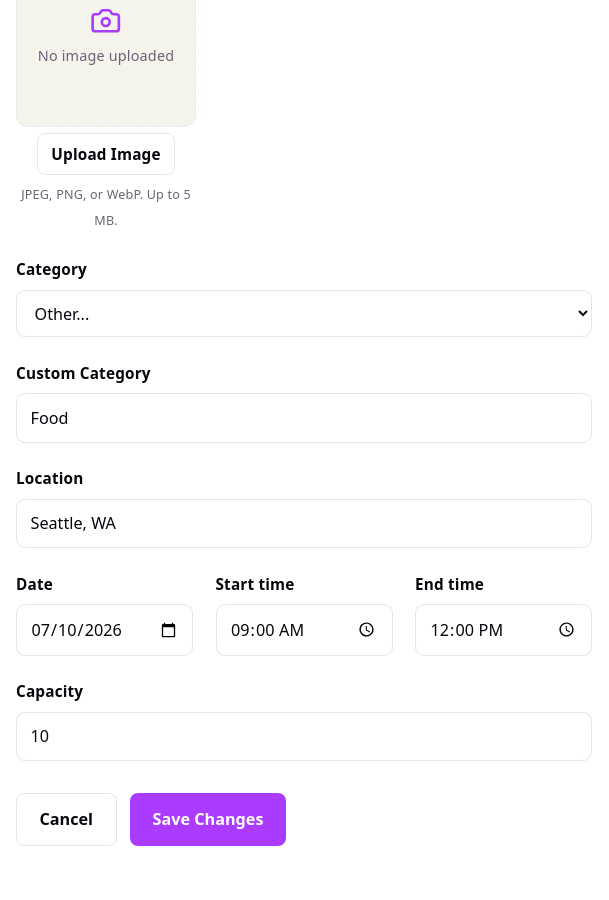
ManageOpportunityPage › shows an error when the update request fails
(page scrolled)
Step 1. Click the button "Save Changes" → (208, 819), box x1=130 y1=793 x2=286 y2=846
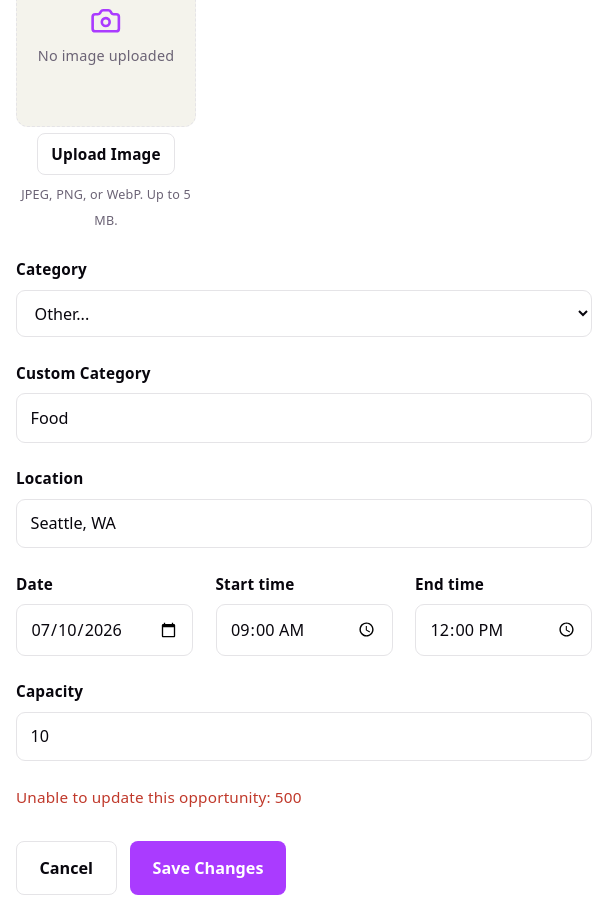
Expected: the text "Unable to update this opportunity: 500" is shown, x1=16 y1=787 x2=302 y2=807
